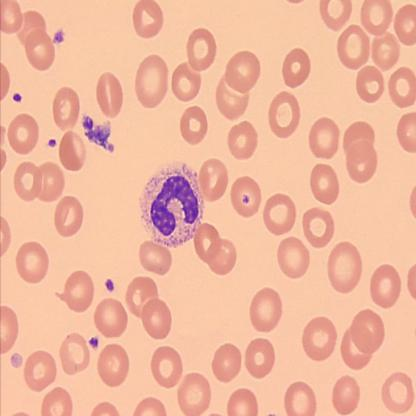Band Neutrophil: (138, 162, 206, 250)
